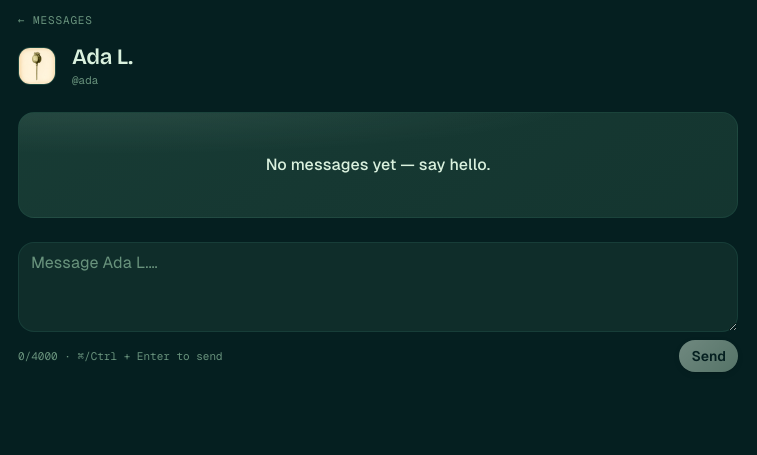
ConversationPage (todo 339) › a 400 on send shows the server’s own message
The image size is (757, 455).
Type "BUY NOW" into the text box with placeholder "Message Ada L.…" at [378, 287], box [18,242,738,332]
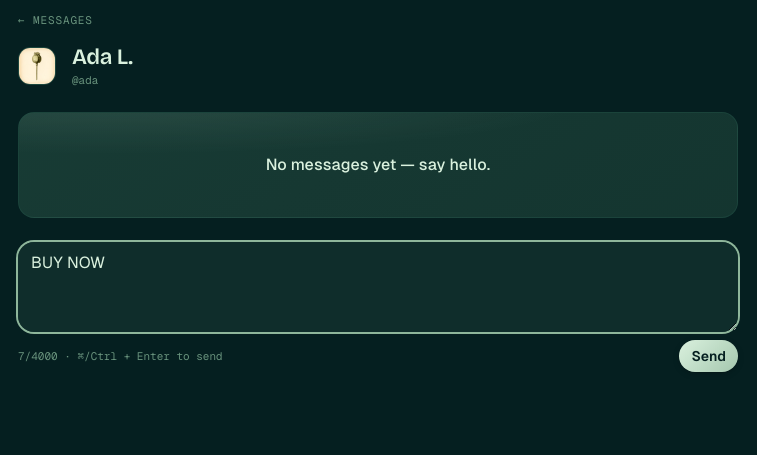
Click the button "Send" at [709, 356], box [679,340,738,372]
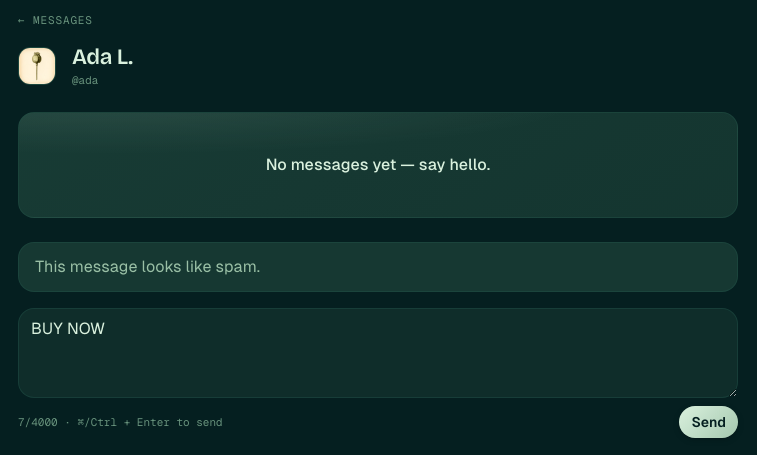
Expected: the button "Send" is enabled, [679,406,738,438]
Expected: the text "This message looks like spam." is shown, [18,242,738,292]
